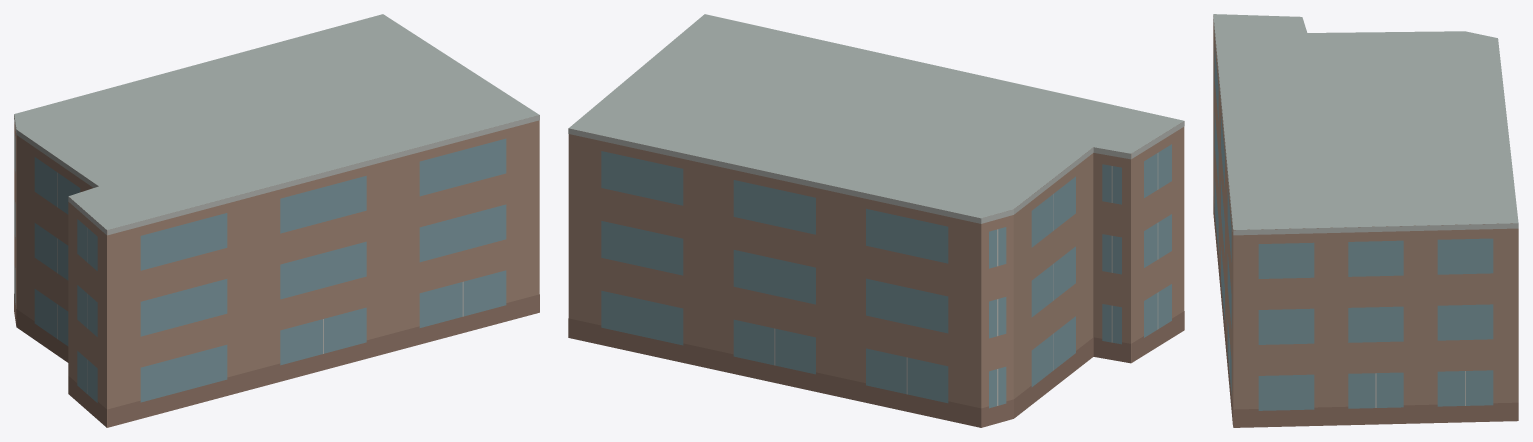
Rendered from survey-upis-33009163.glb.
3 views of the same model, side by side, from view 1: azimuth 30°, elevation 25°; view 2: azimuth 150°, elevation 25°; view 3: azimuth 270°, elevation 25° (orthographic). The views are drawn at different scales.
Parts seen in each view (by area): view 1: survey-upis-33009163.tmp; view 2: survey-upis-33009163.tmp; view 3: survey-upis-33009163.tmp.
Part boxes in pixels (<box>): survey-upis-33009163.tmp: <box>14,14,539,427</box>; survey-upis-33009163.tmp: <box>568,14,1184,427</box>; survey-upis-33009163.tmp: <box>1213,14,1518,427</box>.
Bounding box in the file's own units: 21.45 × 9.15 × 12.81.
